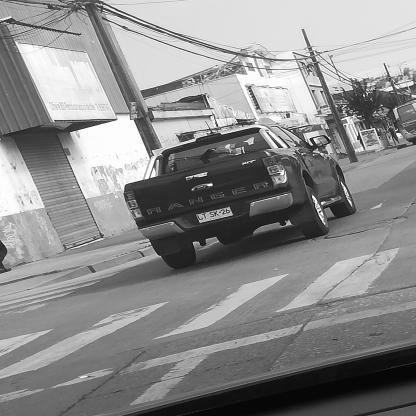Patente: (193, 205, 236, 226)
